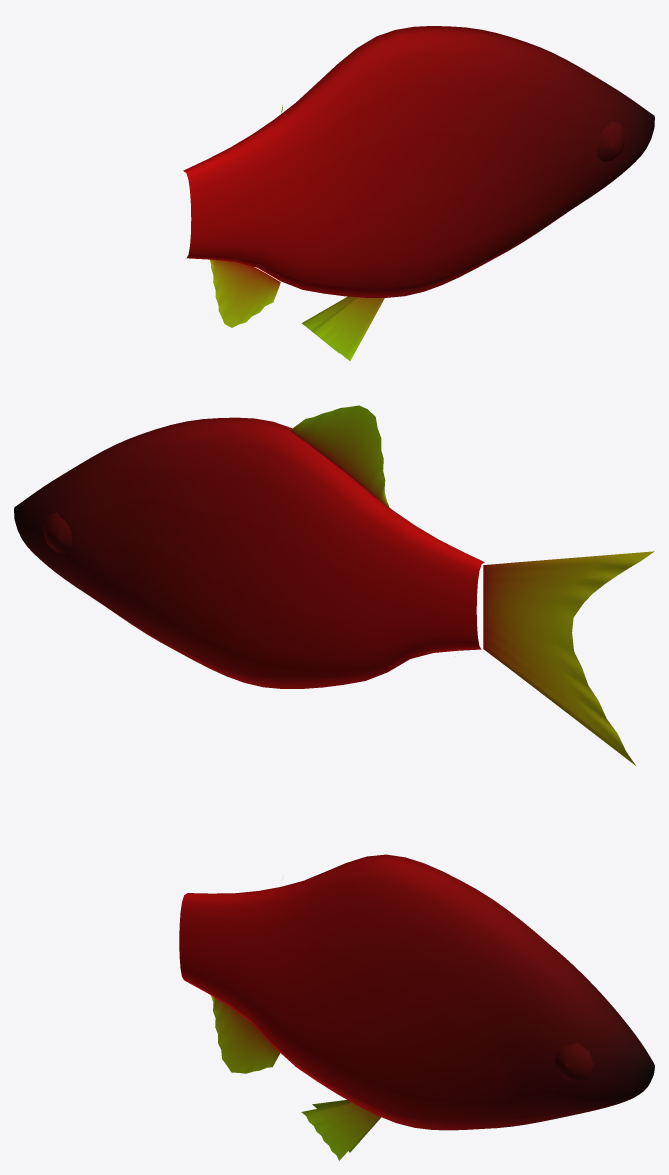
File: tiger_barb.glb
The picture shows the model from 3 angles, top to bottom: view 1: azimuth 30°, elevation 25°; view 2: azimuth 150°, elevation 25°; view 3: azimuth 330°, elevation 25°; orthographic projection.
Visible parts, largest first — view 1: body, eye; view 2: body, eye; view 3: body, eye.
Boxes of the visible parts, x1,y1,x2,y2 form: body: (183,26,654,360); eye: (596,121,625,161); body: (14,405,654,765); eye: (42,512,72,552); body: (179,854,654,1160); eye: (554,1042,593,1082).
Size of the model in its own units: 0.0911 by 0.0477 by 0.0114.
